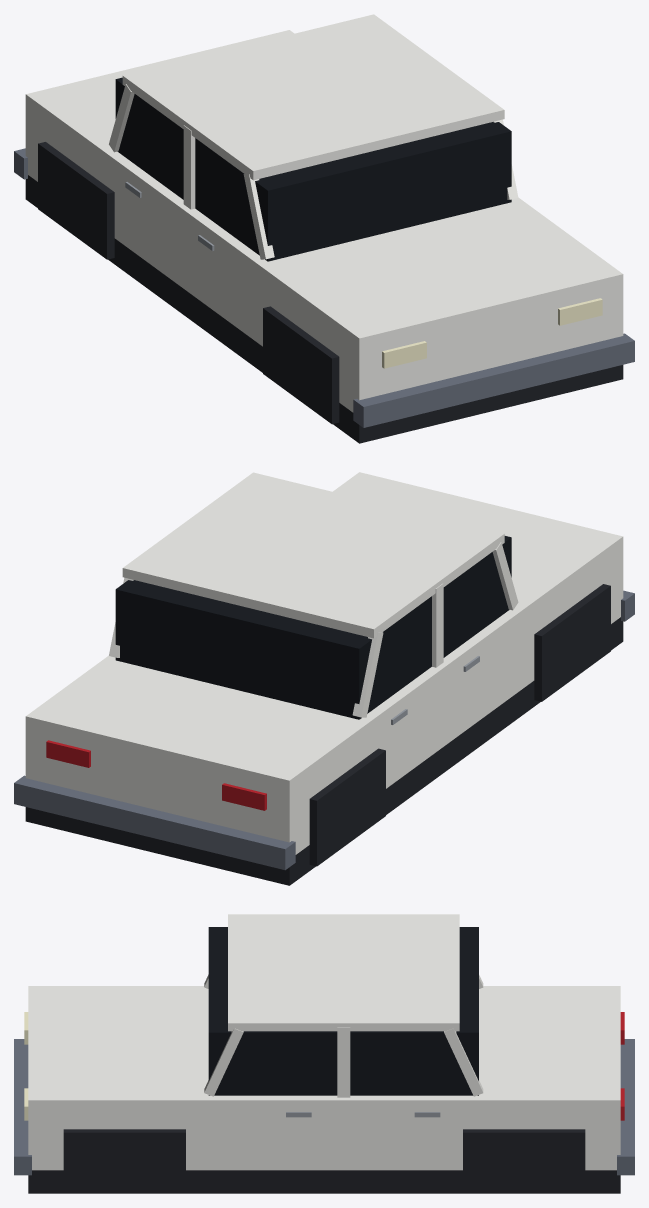
Rendered from traffic_car_0.glb.
3 views of the same model, one above another, from view 1: azimuth 30°, elevation 25°; view 2: azimuth 150°, elevation 25°; view 3: azimuth 270°, elevation 25° (orthographic). The views are drawn at different scales.
Visible parts, largest first — view 1: body, body_getaway_glass, body_car_black, body_car_grey, frame, lights_lamp; view 2: body, body_getaway_glass, body_car_black, body_car_grey, frame, lights_tail; view 3: body, body_car_black, body_getaway_glass, body_car_grey, frame.
Part boxes in pixels (x1=…): body: x1=25, y1=14, x2=623, y2=412; body_getaway_glass: x1=115, y1=77, x2=511, y2=261; body_car_black: x1=25, y1=142, x2=623, y2=443; body_car_grey: x1=14, y1=148, x2=634, y2=427; frame: x1=109, y1=84, x2=518, y2=259; lights_lamp: x1=382, y1=298, x2=602, y2=368; body: x1=25, y1=472, x2=623, y2=854; body_getaway_glass: x1=115, y1=536, x2=511, y2=719; body_car_black: x1=25, y1=584, x2=623, y2=885; body_car_grey: x1=14, y1=590, x2=634, y2=870; frame: x1=109, y1=542, x2=518, y2=717; lights_tail: x1=46, y1=740, x2=266, y2=810; body: x1=28, y1=914, x2=620, y2=1170; body_car_black: x1=28, y1=1129, x2=620, y2=1193; body_getaway_glass: x1=208, y1=927, x2=478, y2=1095; body_car_grey: x1=14, y1=1039, x2=634, y2=1175; frame: x1=204, y1=974, x2=483, y2=1097.
Bounding box in the file's own units: 2.22 × 1.44 × 4.82.
